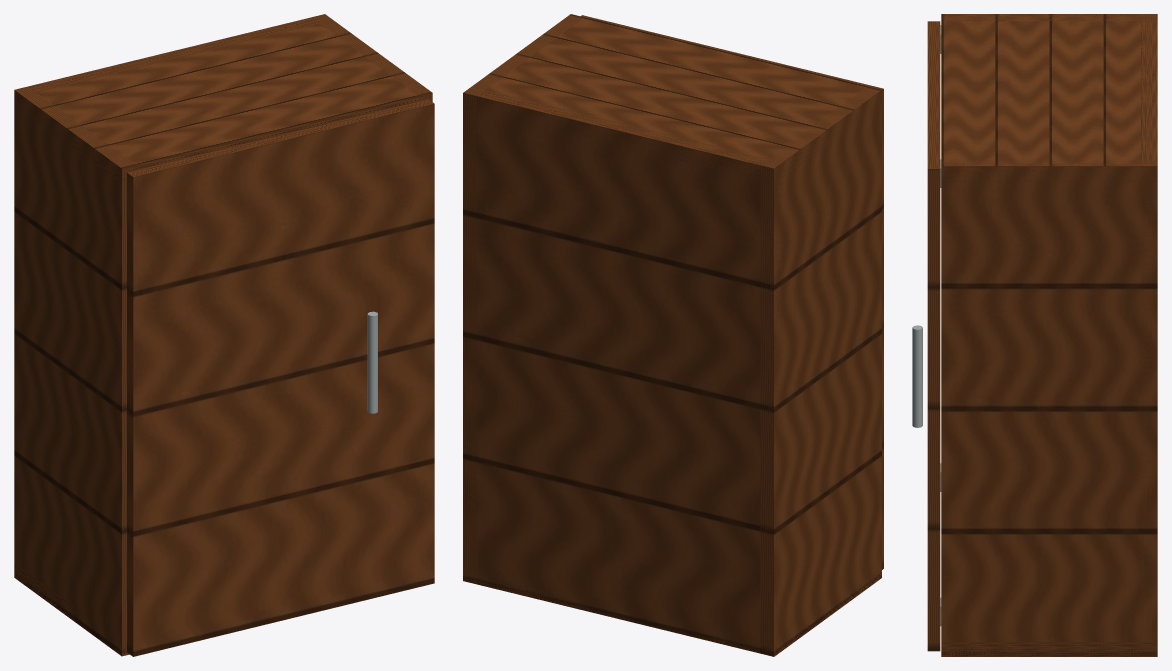
The model's file is bunker-shelter-construction-sealed-equipment-cabinet-e6a66dc1__23394.glb.
3 renders of one model, left to right at view 1: azimuth 30°, elevation 25°; view 2: azimuth 150°, elevation 25°; view 3: azimuth 270°, elevation 25°, orthographic.
Parts seen in each view (by area): view 1: cabinet-door-0/wood, sealed-equipment-cabinet; view 2: sealed-equipment-cabinet, cabinet-door-0/wood; view 3: sealed-equipment-cabinet, cabinet-door-0/wood.
Part boxes in pixels (bbox=[...]): cabinet-door-0/wood: bbox=[127, 99, 434, 656]; sealed-equipment-cabinet: bbox=[14, 14, 432, 656]; sealed-equipment-cabinet: bbox=[463, 14, 881, 656]; cabinet-door-0/wood: bbox=[581, 15, 883, 569]; sealed-equipment-cabinet: bbox=[912, 14, 1157, 656]; cabinet-door-0/wood: bbox=[927, 21, 940, 651].
Bounding box in the file's own units: 1 × 1.5 × 0.68.
2 materials, 1 textured.
